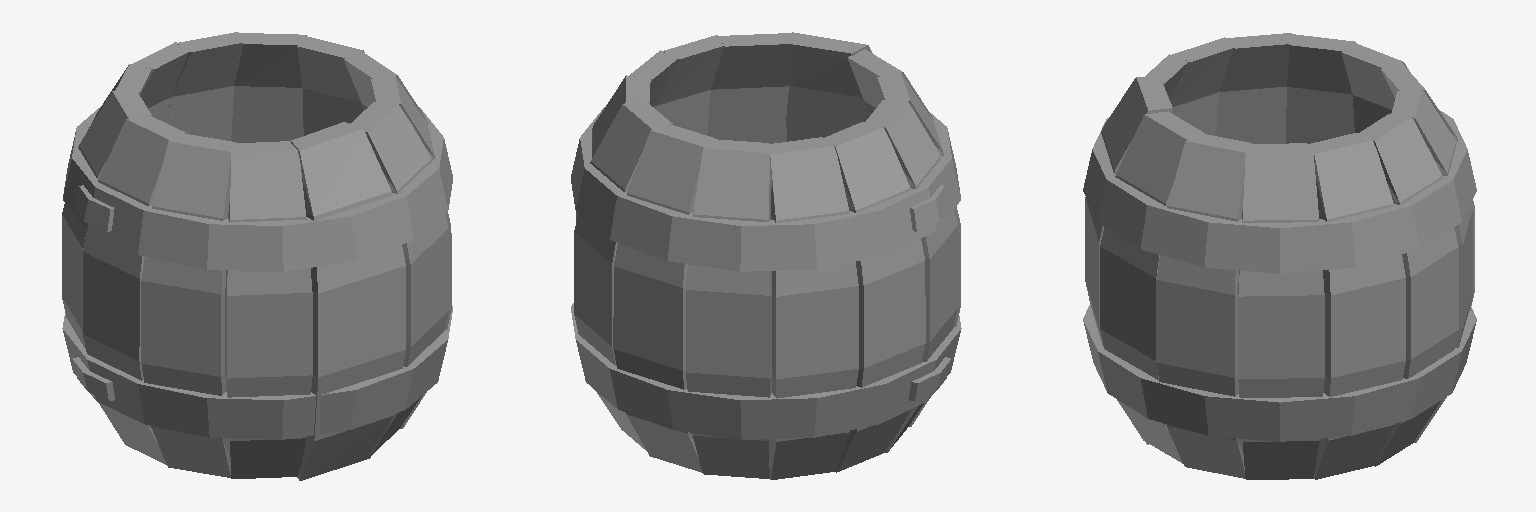
File: barrio_aberto.obj
The picture shows the model from 3 angles: view 1: azimuth 30°, elevation 25°; view 2: azimuth 150°, elevation 25°; view 3: azimuth 270°, elevation 25°; orthographic projection.
Parts seen in each view (by area): view 1: Circle.002_Circle.003, Plane.002, Plane.000_Plane.004, Plane.003_Plane.006, Plane.001_Plane.005, Plane.012_Plane.015, Plane.008_Plane.011, Plane.005_Plane.008, Plane.007_Plane.010, Plane.009_Plane.012, Plane.004_Plane.007, Plane.010_Plane.013 (+2 smaller); view 2: Circle.002_Circle.003, Plane.006_Plane.009, Plane.004_Plane.007, Plane.005_Plane.008, Plane.007_Plane.010, Plane.008_Plane.011, Plane.012_Plane.015, Plane.001_Plane.005, Plane.002, Plane.010_Plane.013, Plane.003_Plane.006, Plane.000_Plane.004 (+2 smaller); view 3: Circle.002_Circle.003, Plane.011_Plane.014, Plane.010_Plane.013, Plane.009_Plane.012, Plane.012_Plane.015, Plane.008_Plane.011, Plane.001_Plane.005, Plane.007_Plane.010, Plane.002, Plane.005_Plane.008, Plane.003_Plane.006, Plane.006_Plane.009 (+2 smaller).
Boxes of the visible parts, x1,y1,x2,y2 form: Circle.002_Circle.003: [62, 107, 452, 439]; Plane.002: [291, 122, 405, 480]; Plane.000_Plane.004: [225, 141, 312, 478]; Plane.003_Plane.006: [141, 134, 235, 477]; Plane.001_Plane.005: [83, 115, 185, 464]; Plane.012_Plane.015: [350, 102, 448, 457]; Plane.008_Plane.011: [231, 33, 306, 142]; Plane.005_Plane.008: [167, 32, 241, 140]; Plane.007_Plane.010: [62, 91, 151, 348]; Plane.009_Plane.012: [297, 36, 364, 135]; Plane.004_Plane.007: [133, 42, 189, 122]; Plane.010_Plane.013: [371, 75, 451, 428]; Circle.002_Circle.003: [571, 107, 961, 439]; Plane.006_Plane.009: [769, 137, 858, 479]; Plane.004_Plane.007: [686, 139, 771, 478]; Plane.005_Plane.008: [613, 124, 714, 472]; Plane.007_Plane.010: [825, 122, 925, 472]; Plane.008_Plane.011: [574, 103, 672, 449]; Plane.012_Plane.015: [707, 33, 791, 143]; Plane.001_Plane.005: [866, 100, 957, 452]; Plane.002: [786, 32, 872, 141]; Plane.010_Plane.013: [655, 35, 723, 134]; Plane.003_Plane.006: [877, 73, 960, 426]; Plane.000_Plane.004: [847, 49, 933, 120]; Circle.002_Circle.003: [1083, 110, 1476, 441]; Plane.011_Plane.014: [1238, 143, 1324, 479]; Plane.010_Plane.013: [1156, 134, 1251, 478]; Plane.009_Plane.012: [1308, 133, 1405, 479]; Plane.012_Plane.015: [1100, 111, 1204, 463]; Plane.008_Plane.011: [1359, 114, 1458, 466]; Plane.001_Plane.005: [1216, 33, 1291, 143]; Plane.007_Plane.010: [1286, 34, 1355, 143]; Plane.002: [1085, 77, 1172, 444]; Plane.005_Plane.008: [1391, 89, 1472, 442]; Plane.003_Plane.006: [1170, 37, 1233, 135]; Plane.006_Plane.009: [1341, 43, 1408, 132].
Bounding box in the file's own units: 2.8 × 2.56 × 2.77.